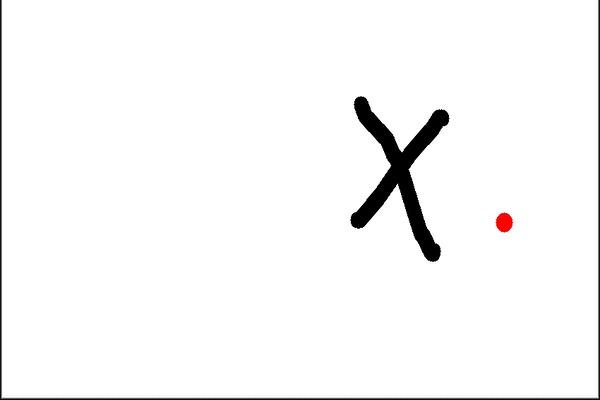Z: (323, 87, 461, 276)
